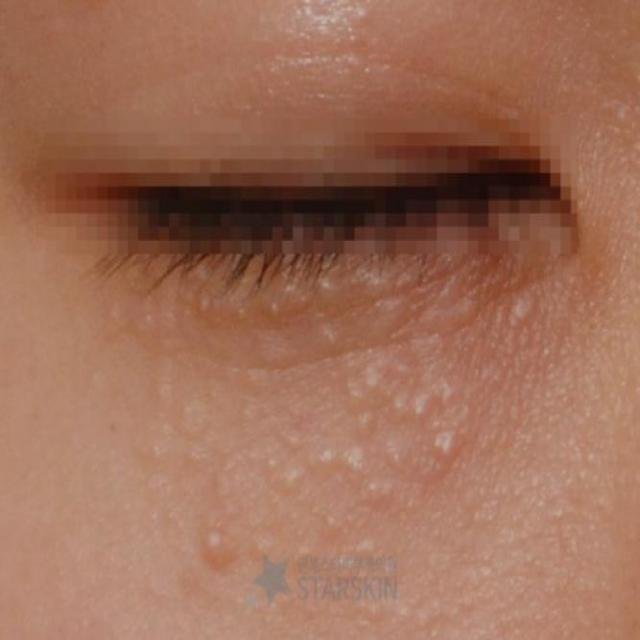Pimples: (339, 346, 472, 488), (350, 276, 536, 352), (122, 383, 232, 486), (249, 425, 349, 523), (186, 508, 252, 578)
